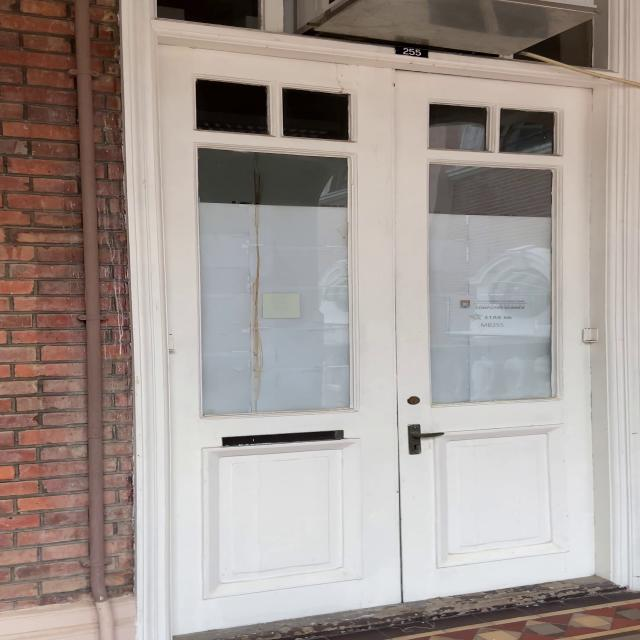room255: (390, 42, 432, 58)
